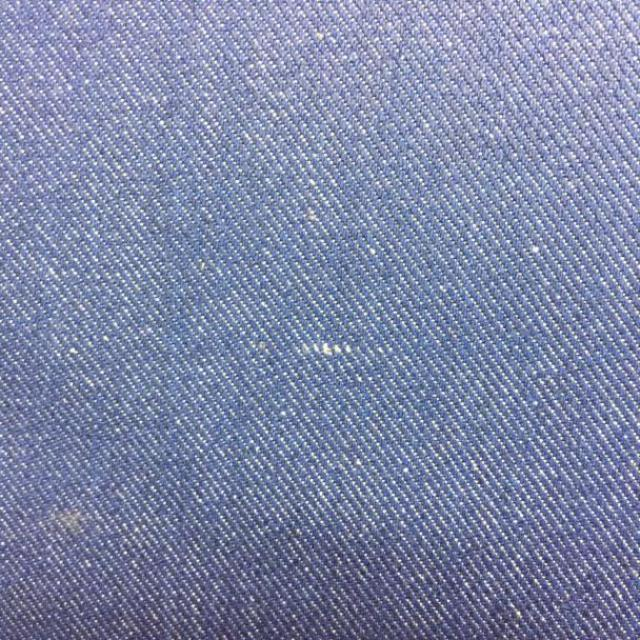Knot: (301, 342, 356, 356)
